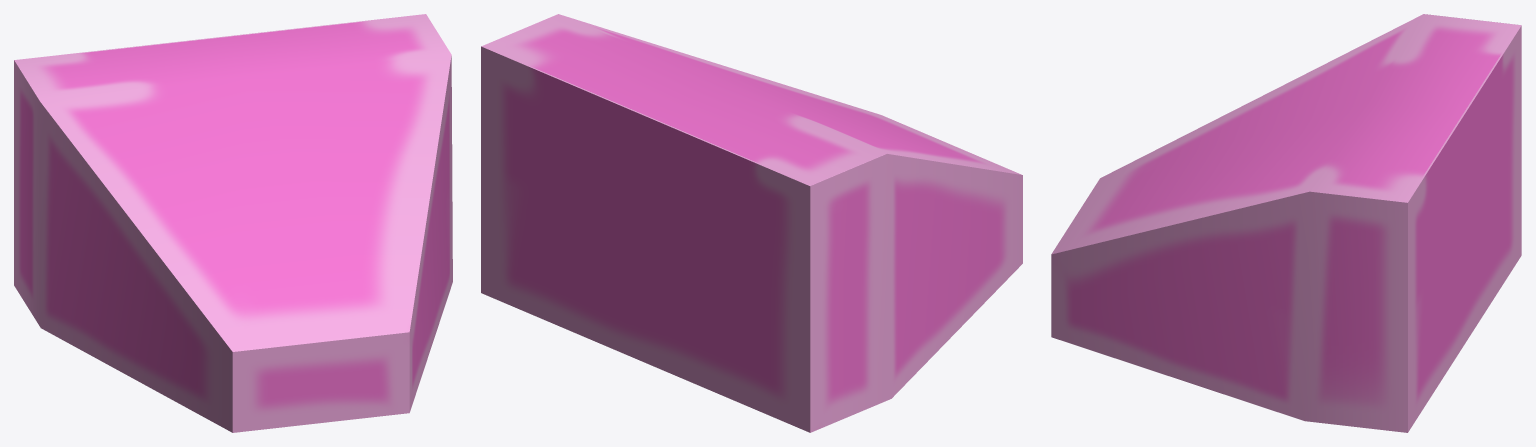
The model's file is Foor L.001.fbx.
3 views of the same model, side by side, from view 1: azimuth 30°, elevation 25°; view 2: azimuth 150°, elevation 25°; view 3: azimuth 270°, elevation 25° (orthographic). The views are drawn at different scales.
Visible parts, largest first — view 1: Foor L.001_Baked; view 2: Foor L.001_Baked; view 3: Foor L.001_Baked.
Part boxes in pixels (box(x1,y1,x2,y2)): Foor L.001_Baked: box(14, 14, 452, 432); Foor L.001_Baked: box(481, 14, 1022, 432); Foor L.001_Baked: box(1051, 14, 1521, 432).
Size of the model in its own units: 75.73 by 42.89 by 79.49.
Materials: 1 (1 with a texture image).
